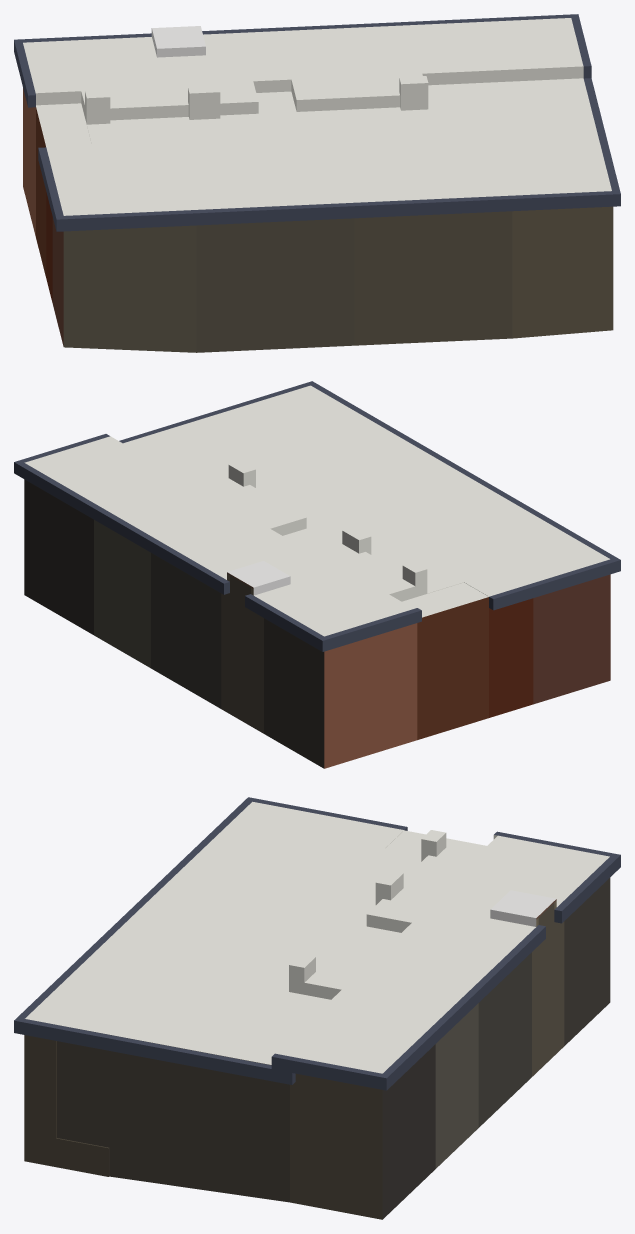
File: volunteer-state-life-building-garage.glb
The picture shows the model from 3 angles, top to bottom: view 1: azimuth 30°, elevation 25°; view 2: azimuth 150°, elevation 25°; view 3: azimuth 270°, elevation 25°; orthographic projection. The views are drawn at different scales.
Parts seen in each view (by area): view 1: LOD0; view 2: LOD0; view 3: LOD0.
Boxes of the visible parts, x1=… form: LOD0: x1=14, y1=14, x2=620, y2=352; LOD0: x1=14, y1=381, x2=620, y2=768; LOD0: x1=14, y1=797, x2=620, y2=1219.
Size of what is drawn, in the model's own units: 77.43 by 21.25 by 67.73.
Materials: 1 (1 with a texture image).
